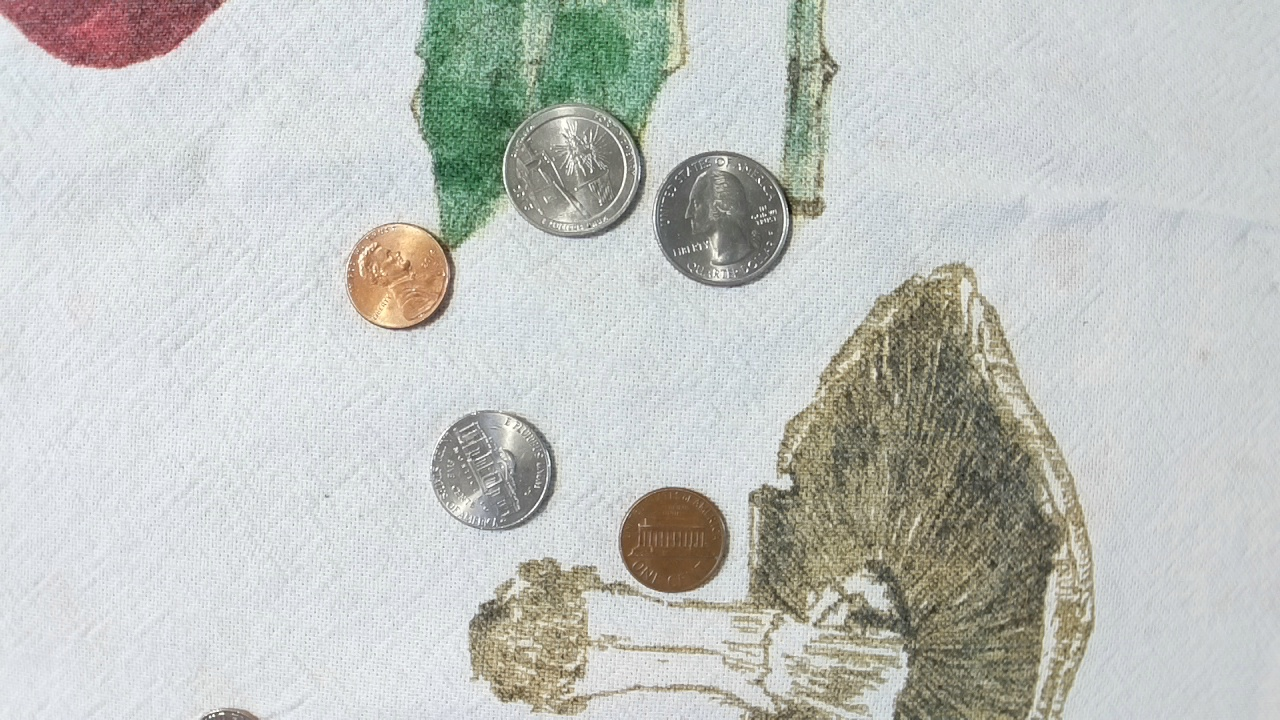nickel: (426, 408, 560, 532)
penny: (613, 484, 731, 596), (342, 218, 454, 334)
quarter: (499, 101, 647, 239), (652, 149, 794, 289)
